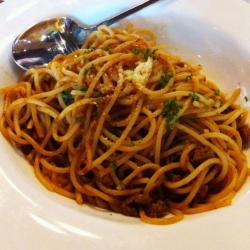bolonese_pasta: (18, 30, 244, 219)
